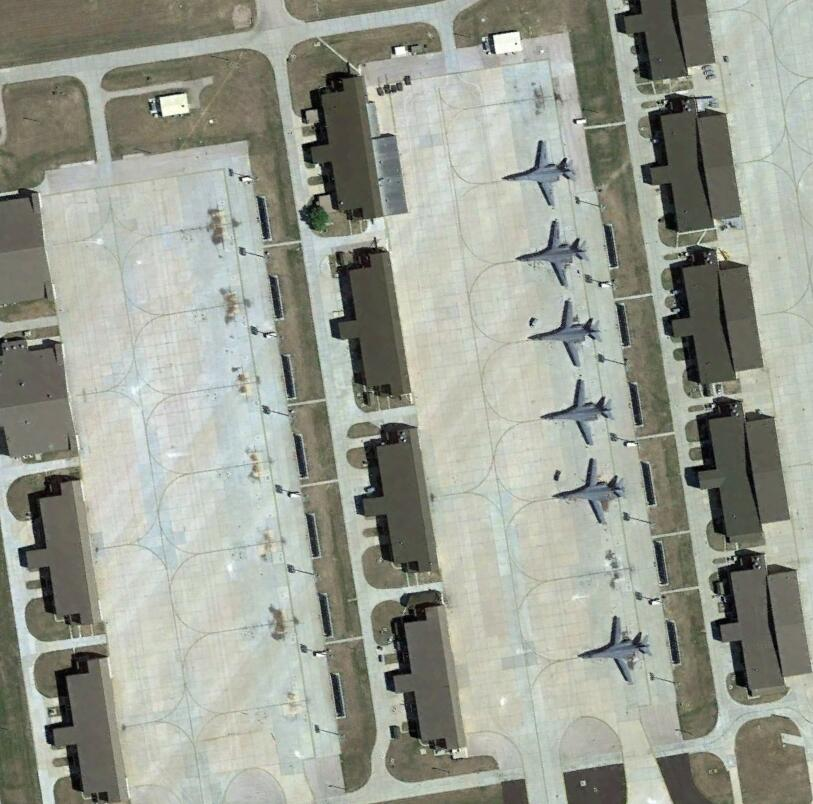A10: (574, 610, 657, 684), (513, 217, 594, 292), (536, 377, 618, 448), (548, 454, 627, 527), (522, 298, 604, 367), (497, 140, 579, 205)
